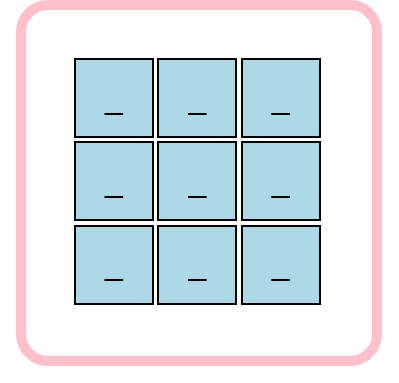
Test: board › after second click the player token swithes to O
The image size is (399, 383).
Click the button with test id "cell_0". click: coordinates (114, 98)
box: [74,58,154,138]
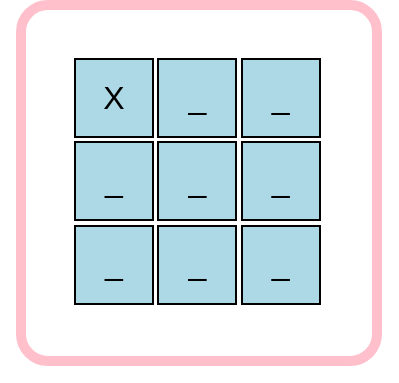
Click the button with test id "cell_1". click: coordinates (197, 98)
box: [157,58,237,138]
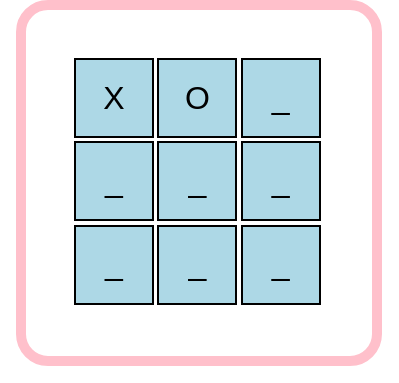
Result: the button with test id "cell_1" reads "O" at [157,58,237,138]
